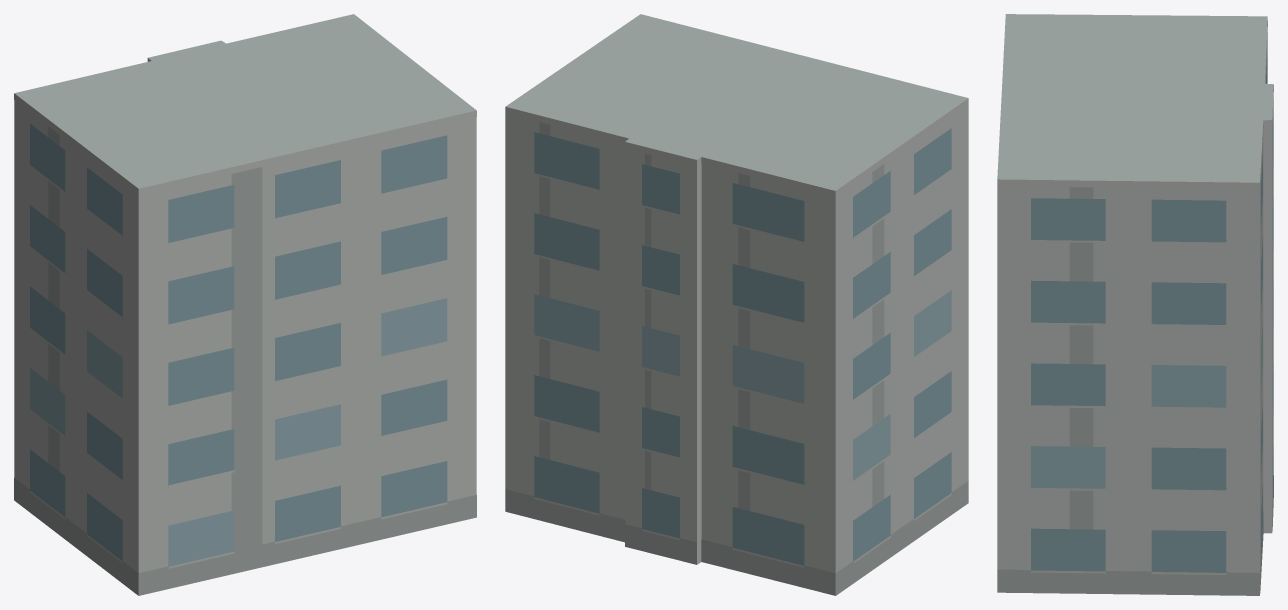
The model's file is survey-upis-32702932.glb.
The picture shows the model from 3 angles, left to right: view 1: azimuth 30°, elevation 25°; view 2: azimuth 150°, elevation 25°; view 3: azimuth 270°, elevation 25°; orthographic projection. The views are drawn at different scales.
Visible parts, largest first — view 1: survey-upis-32702932.tmp; view 2: survey-upis-32702932.tmp; view 3: survey-upis-32702932.tmp.
Boxes of the visible parts, left/top/right/bottom form: survey-upis-32702932.tmp: left=14, top=14, right=476, bottom=595; survey-upis-32702932.tmp: left=505, top=14, right=968, bottom=595; survey-upis-32702932.tmp: left=997, top=14, right=1273, bottom=595.
Bounding box in the file's own units: 12.88 × 14.7 × 8.92.
